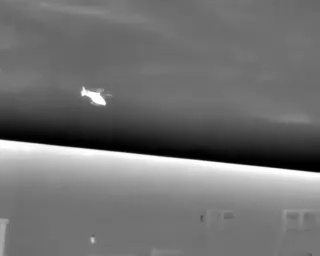HELICOPTER: (76, 82, 119, 115)
